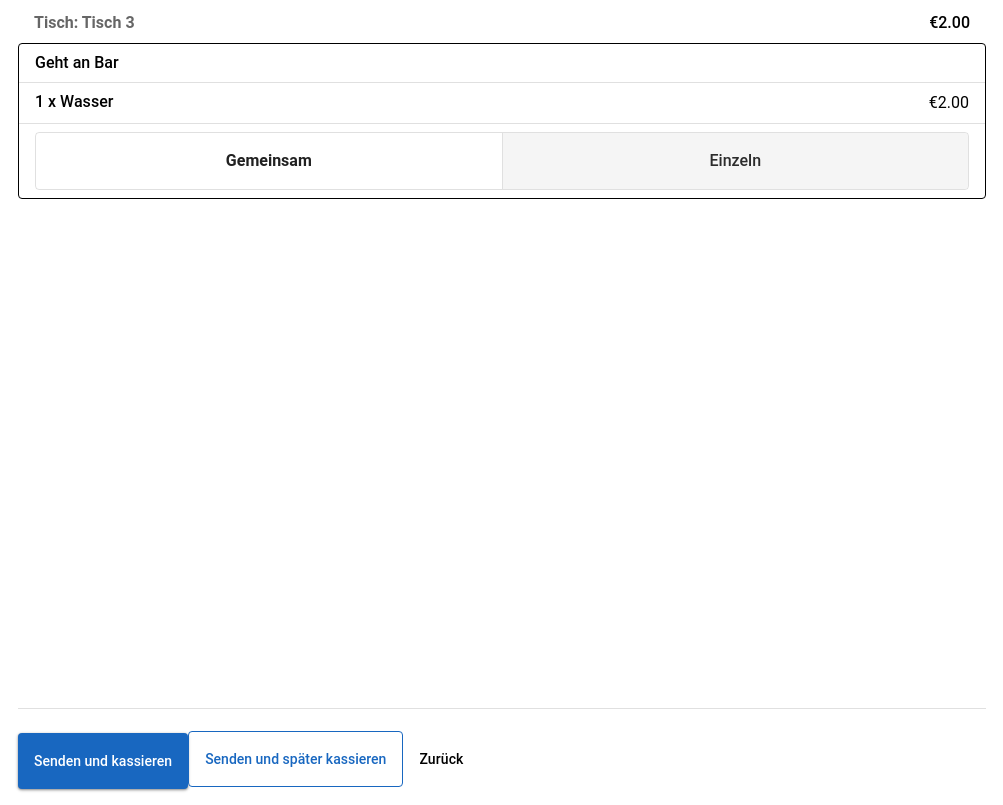
Scenario: an order the laptop did not confirm › offers no way to take the sold-out line off, because the laptop may hold the order as it was
The image size is (1003, 805).
What coordinates should you click on to do the following:
click the button with test id "send-and-settle-later"
I would click on:
 (296, 759)
Its box is x1=188 y1=731 x2=403 y2=787.
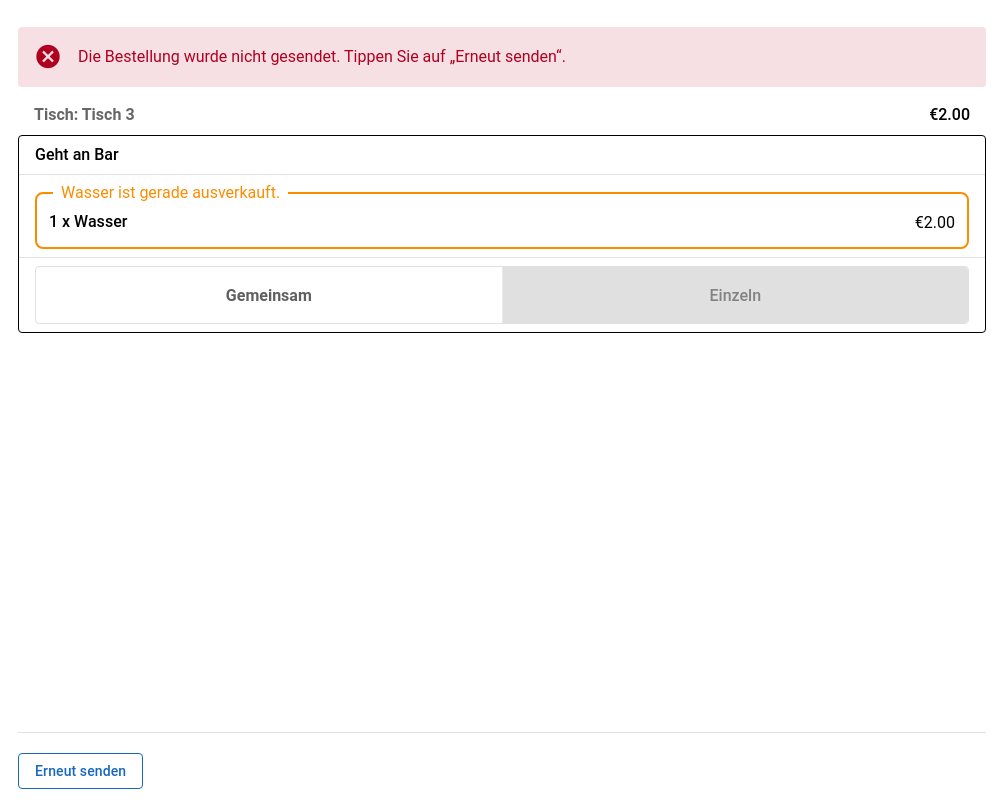
Result: the button with test id "send-again" is shown at x1=18 y1=753 x2=143 y2=789
